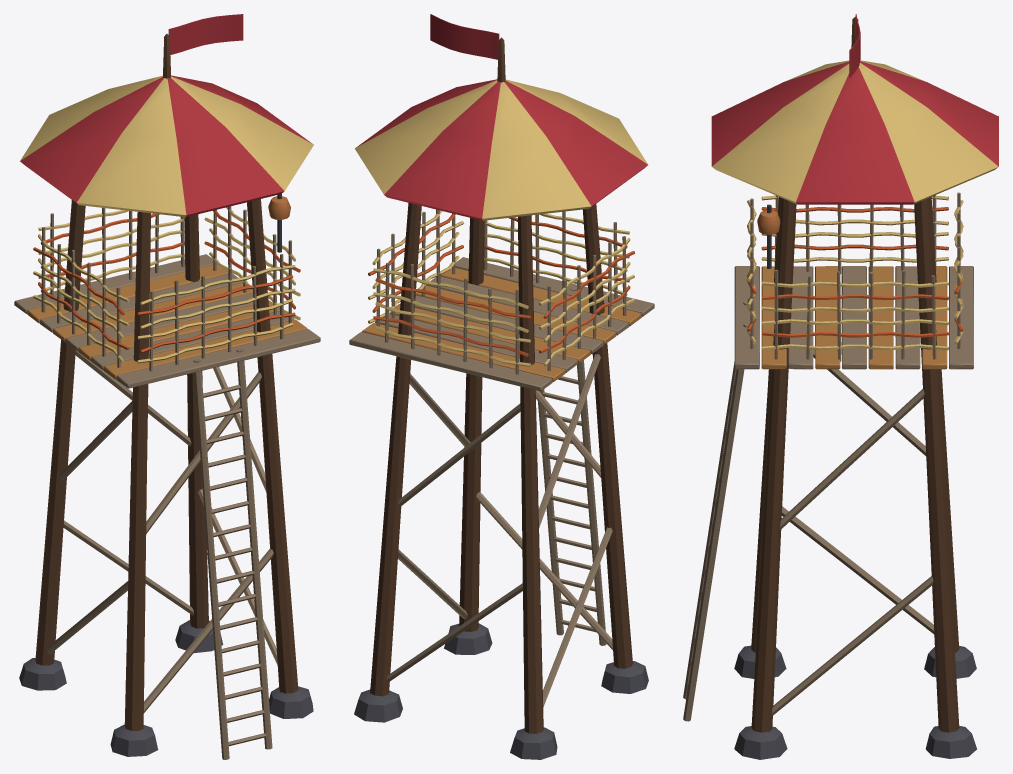
File: deco_watchtower.fbx
The picture shows the model from 3 angles, left to right: view 1: azimuth 30°, elevation 25°; view 2: azimuth 150°, elevation 25°; view 3: azimuth 270°, elevation 25°; orthographic projection. The views are drawn at different scales.
Visible parts, largest first — view 1: Watchtower_Legs, Watchtower_Roof, Watchtower_Deck, Watchtower_Parapet, Watchtower_Ladder, Watchtower_Pennant, Watchtower_SignalLamp; view 2: Watchtower_Legs, Watchtower_Roof, Watchtower_Deck, Watchtower_Parapet, Watchtower_Ladder, Watchtower_Pennant; view 3: Watchtower_Roof, Watchtower_Legs, Watchtower_Deck, Watchtower_Parapet, Watchtower_Ladder, Watchtower_SignalLamp.
Boxes of the visible parts, x1,y1,x2,y2 form: Watchtower_Legs: (19,199,313,756); Watchtower_Roof: (20,34,313,217); Watchtower_Deck: (14,254,320,388); Watchtower_Parapet: (33,206,300,371); Watchtower_Ladder: (193,349,272,759); Watchtower_Pennant: (168,14,243,54); Watchtower_SignalLamp: (268,194,290,252); Watchtower_Legs: (354,202,648,759); Watchtower_Roof: (354,37,647,220); Watchtower_Deck: (349,257,654,391); Watchtower_Parapet: (368,209,634,374); Watchtower_Ladder: (533,276,606,645); Watchtower_Pennant: (430,14,499,59); Watchtower_Roof: (711,16,998,204); Watchtower_Legs: (734,197,976,759); Watchtower_Deck: (734,266,973,369); Watchtower_Parapet: (747,192,963,361); Watchtower_Ladder: (683,301,749,721); Watchtower_SignalLamp: (757,204,780,268).
Bounding box in the file's own units: 333 × 891 × 366.
